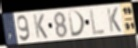8: (53, 11, 68, 39)
9: (16, 14, 31, 43)
D: (67, 9, 87, 38)
K: (106, 7, 123, 33), (32, 14, 49, 40)
L: (89, 8, 106, 36)
